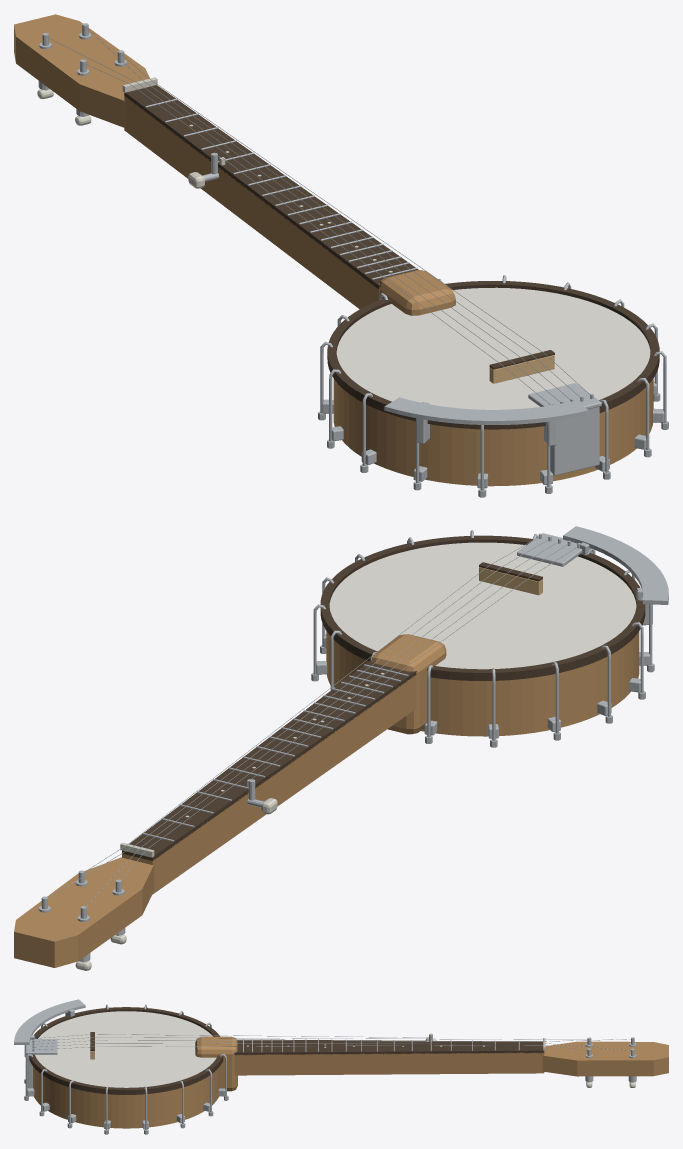
File: A-NEW-20261026-BANJO-001_LOD1_R3.fbx
The picture shows the model from 3 angles, top to bottom: view 1: azimuth 30°, elevation 25°; view 2: azimuth 150°, elevation 25°; view 3: azimuth 270°, elevation 25°; orthographic projection. The views are drawn at different scales.
Visible parts, largest first — view 1: closed thin head membrane, open back wooden rim, plain tapered fingerboard, tapered maple neck, plain headstock, dark tension hoop, curved plain armrest, tailpiece rim attachment, thick neck heel, plain tailpiece plate, bridge wooden support; view 2: closed thin head membrane, open back wooden rim, plain tapered fingerboard, plain headstock, tapered maple neck, dark tension hoop, thick neck heel, curved plain armrest, plain tailpiece plate, bridge wooden support; view 3: closed thin head membrane, tapered maple neck, open back wooden rim, plain tapered fingerboard, plain headstock, dark tension hoop, thick neck heel, curved plain armrest, string 3, plain tailpiece plate, string 2, string 5 (+2 smaller).
Part boxes in pixels (left/top/right/bottom): closed thin head membrane: left=336, top=287, right=650, bottom=409; open back wooden rim: left=333, top=378, right=653, bottom=486; plain tapered fingerboard: left=124, top=85, right=418, bottom=289; tapered maple neck: left=124, top=95, right=378, bottom=309; plain headstock: left=14, top=14, right=149, bottom=128; dark tension hoop: left=327, top=281, right=659, bottom=429; curved plain armrest: left=384, top=397, right=588, bottom=424; tailpiece rim attachment: left=550, top=406, right=599, bottom=475; thick neck heel: left=379, top=270, right=455, bottom=315; plain tailpiece plate: left=528, top=383, right=601, bottom=409; bridge wooden support: left=489, top=355, right=554, bottom=383; closed thin head membrane: left=329, top=542, right=636, bottom=669; open back wooden rim: left=326, top=631, right=639, bottom=736; plain tapered fingerboard: left=122, top=660, right=416, bottom=860; plain headstock: left=14, top=857, right=154, bottom=967; tapered maple neck: left=122, top=675, right=416, bottom=894; dark tension hoop: left=320, top=535, right=645, bottom=680; thick neck heel: left=371, top=634, right=446, bottom=734; curved plain armrest: left=563, top=526, right=668, bottom=604; plain tailpiece plate: left=517, top=533, right=582, bottom=566; bridge wooden support: left=479, top=567, right=542, bottom=595; closed thin head membrane: left=35, top=1011, right=216, bottom=1087; tapered maple neck: left=234, top=1052, right=544, bottom=1075; open back wooden rim: left=33, top=1067, right=219, bottom=1128; plain tapered fingerboard: left=234, top=1039, right=544, bottom=1055; plain headstock: left=542, top=1041, right=668, bottom=1076; dark tension hoop: left=29, top=1007, right=223, bottom=1094; thick neck heel: left=195, top=1036, right=237, bottom=1091; curved plain armrest: left=14, top=999, right=85, bottom=1044; string 3: left=35, top=1039, right=630, bottom=1044; plain tailpiece plate: left=26, top=1039, right=57, bottom=1054; string 2: left=36, top=1037, right=587, bottom=1041; string 5: left=35, top=1045, right=586, bottom=1050.
Bounding box in the file's own units: 30.05 × 8.33 × 96.65.
